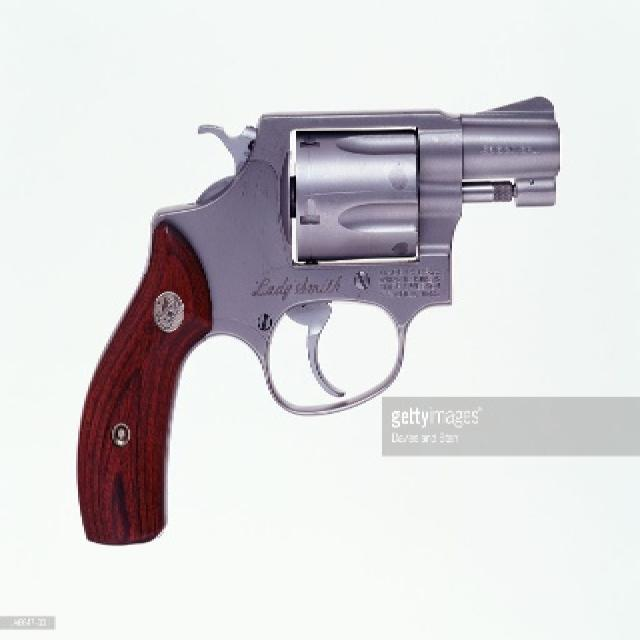handgun: (69, 91, 563, 546)
